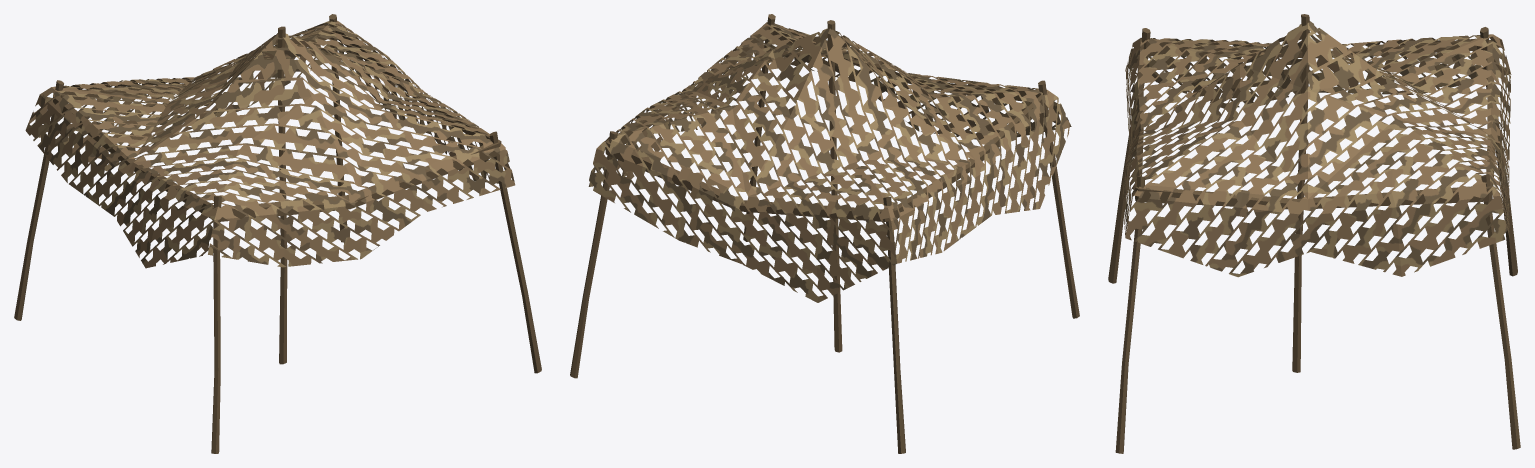
The model's file is SM_Bld_CamoNet_Tent_02.glb.
The picture shows the model from 3 angles, left to right: view 1: azimuth 30°, elevation 25°; view 2: azimuth 150°, elevation 25°; view 3: azimuth 270°, elevation 25°; orthographic projection. The views are drawn at different scales.
Visible parts, largest first — view 1: SM_Bld_CamoNet_Tent_02; view 2: SM_Bld_CamoNet_Tent_02; view 3: SM_Bld_CamoNet_Tent_02.
Boxes of the visible parts, x1,y1,x2,y2 form: SM_Bld_CamoNet_Tent_02: [14, 14, 541, 453]; SM_Bld_CamoNet_Tent_02: [570, 14, 1079, 453]; SM_Bld_CamoNet_Tent_02: [1108, 14, 1520, 453].
Size of the model in its own units: 4.43 by 4.06 by 4.23.
Materials: 2 (2 with a texture image).
